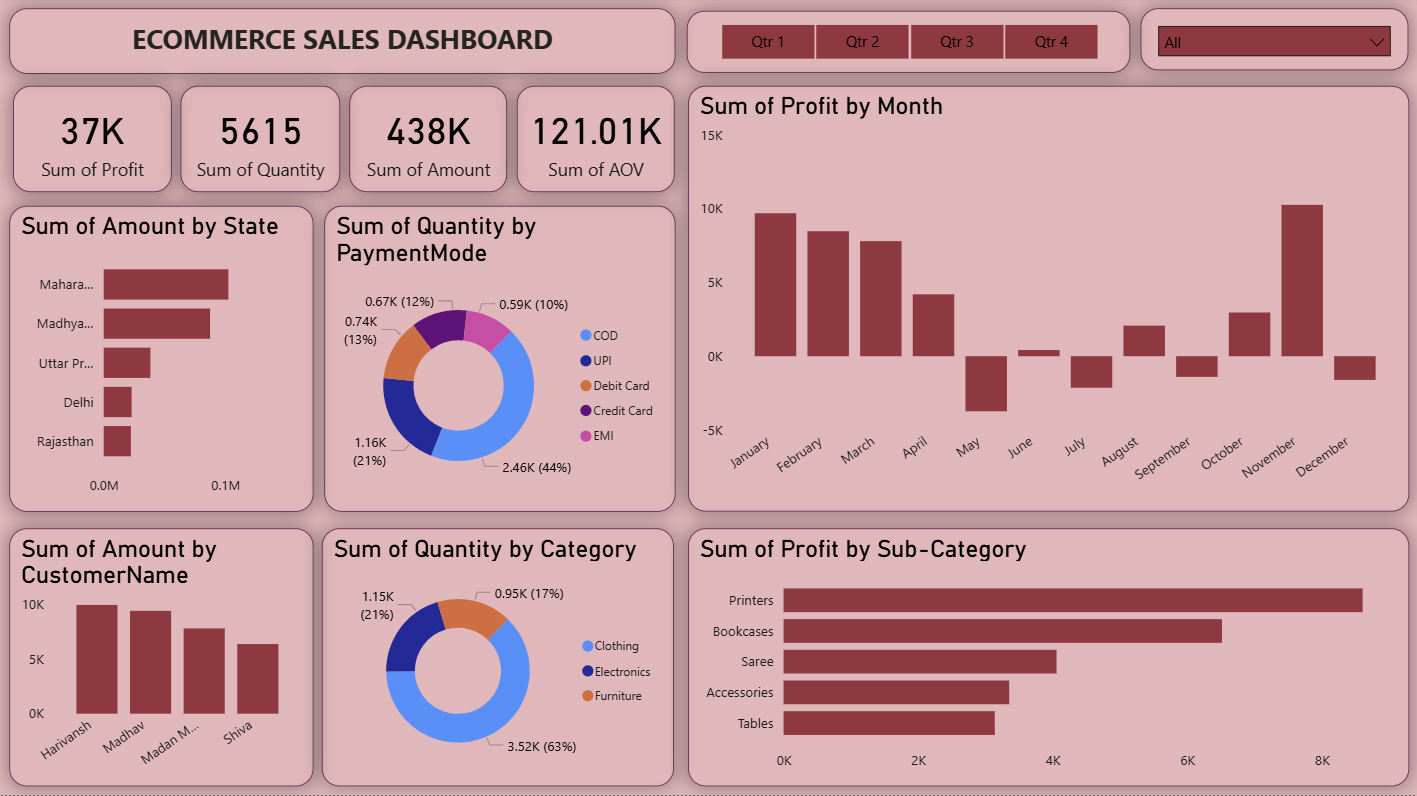

The dashboard page shown, as its layout file describes it:
{"tool":"powerbi","page":{"name":"Page 1","canvas":[1280,720],"ordinal":0},"visuals":[{"type":"textbox","box":[9.6,9.6,601,59],"z":0},{"type":"columnChart","fields":{"Y":["Details.Profit"],"Category":["Orders.Order Date.Variation.Date Hierarchy.Month"]},"box":[621.6,79.6,650.4,384.2],"z":1000},{"type":"barChart","fields":{"Category":["Details.Sub-Category"],"Y":["Details.Profit"]},"box":[621.6,478.9,650,233],"z":2000},{"type":"donutChart","fields":{"Category":["Details.Category"],"Y":["Details.Quantity"]},"box":[292.3,478.9,317.2,232.6],"z":3000},{"type":"donutChart","fields":{"Y":["Details.Quantity"],"Category":["Details.PaymentMode"]},"box":[293.7,188,317,275.8],"z":4000},{"type":"card","fields":{"Values":["Details.Amount"]},"box":[317,79.6,142.7,96.1],"z":5000},{"type":"card","fields":{"Values":["Details.Quantity"]},"box":[165,79.6,144,96.1],"z":6000},{"type":"card","fields":{"Values":["Details.Profit"]},"box":[13,79.6,143,96.1],"z":7000},{"type":"card","fields":{"Values":["Details.Sum of AOV"]},"box":[467.9,79.6,142.7,96.1],"z":8000},{"type":"barChart","fields":{"Category":["Orders.State"],"Y":["Details.Amount"]},"box":[9.6,188,274.4,275.8],"z":9000},{"type":"columnChart","fields":{"Y":["Details.Amount"],"Category":["Orders.CustomerName"]},"box":[9.6,479,274.4,233],"z":10000},{"type":"slicer","fields":{"Values":["Orders.Order Date.Variation.Date Hierarchy.Quarter"]},"box":[621.6,12.4,400.2,56.4],"z":11000},{"type":"slicer","fields":{"Values":["Orders.State"]},"box":[1030.5,9.6,241.5,56.3],"z":12000}]}

Visuals, with their boxes in screenshot pixels (x1, y1, x2, y2), scaled from the page's 1280x720 canvas onto the 1417x796 screenshot:
textbox: {"left": 11, "top": 11, "right": 676, "bottom": 76}
columnChart - Details.Profit x Orders.Order Date.Variation.Date Hierarchy.Month: {"left": 688, "top": 88, "right": 1408, "bottom": 513}
barChart - Details.Sub-Category x Details.Profit: {"left": 688, "top": 529, "right": 1408, "bottom": 787}
donutChart - Details.Category x Details.Quantity: {"left": 324, "top": 529, "right": 675, "bottom": 787}
donutChart - Details.Quantity x Details.PaymentMode: {"left": 325, "top": 208, "right": 676, "bottom": 513}
card - Details.Amount: {"left": 351, "top": 88, "right": 509, "bottom": 194}
card - Details.Quantity: {"left": 183, "top": 88, "right": 342, "bottom": 194}
card - Details.Profit: {"left": 14, "top": 88, "right": 173, "bottom": 194}
card - Details.Sum of AOV: {"left": 518, "top": 88, "right": 676, "bottom": 194}
barChart - Orders.State x Details.Amount: {"left": 11, "top": 208, "right": 314, "bottom": 513}
columnChart - Details.Amount x Orders.CustomerName: {"left": 11, "top": 530, "right": 314, "bottom": 787}
slicer - Orders.Order Date.Variation.Date Hierarchy.Quarter: {"left": 688, "top": 14, "right": 1131, "bottom": 76}
slicer - Orders.State: {"left": 1141, "top": 11, "right": 1408, "bottom": 73}
